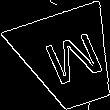M_S: (34, 28, 104, 91)
